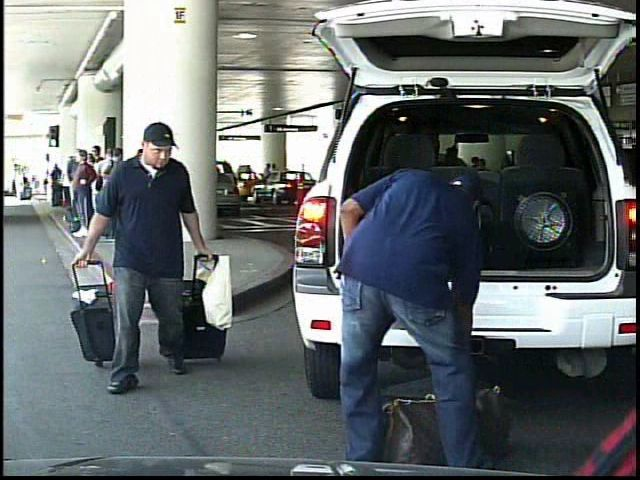person: (315, 137, 502, 476), (73, 115, 222, 406), (262, 163, 273, 197), (14, 170, 25, 201)
